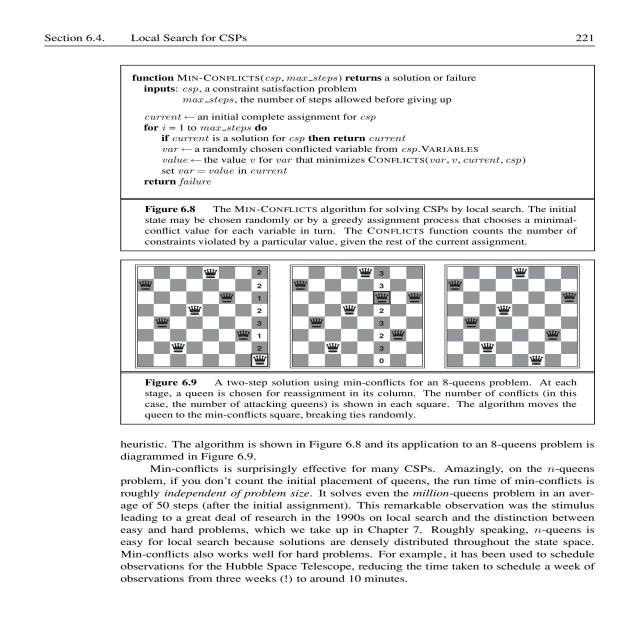diagram: (116, 258, 625, 415)
